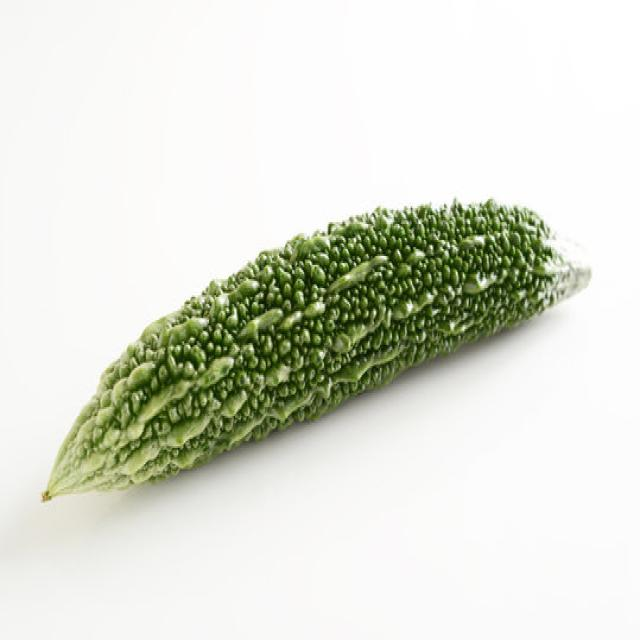Bitter_Gourd: (41, 196, 592, 503)
